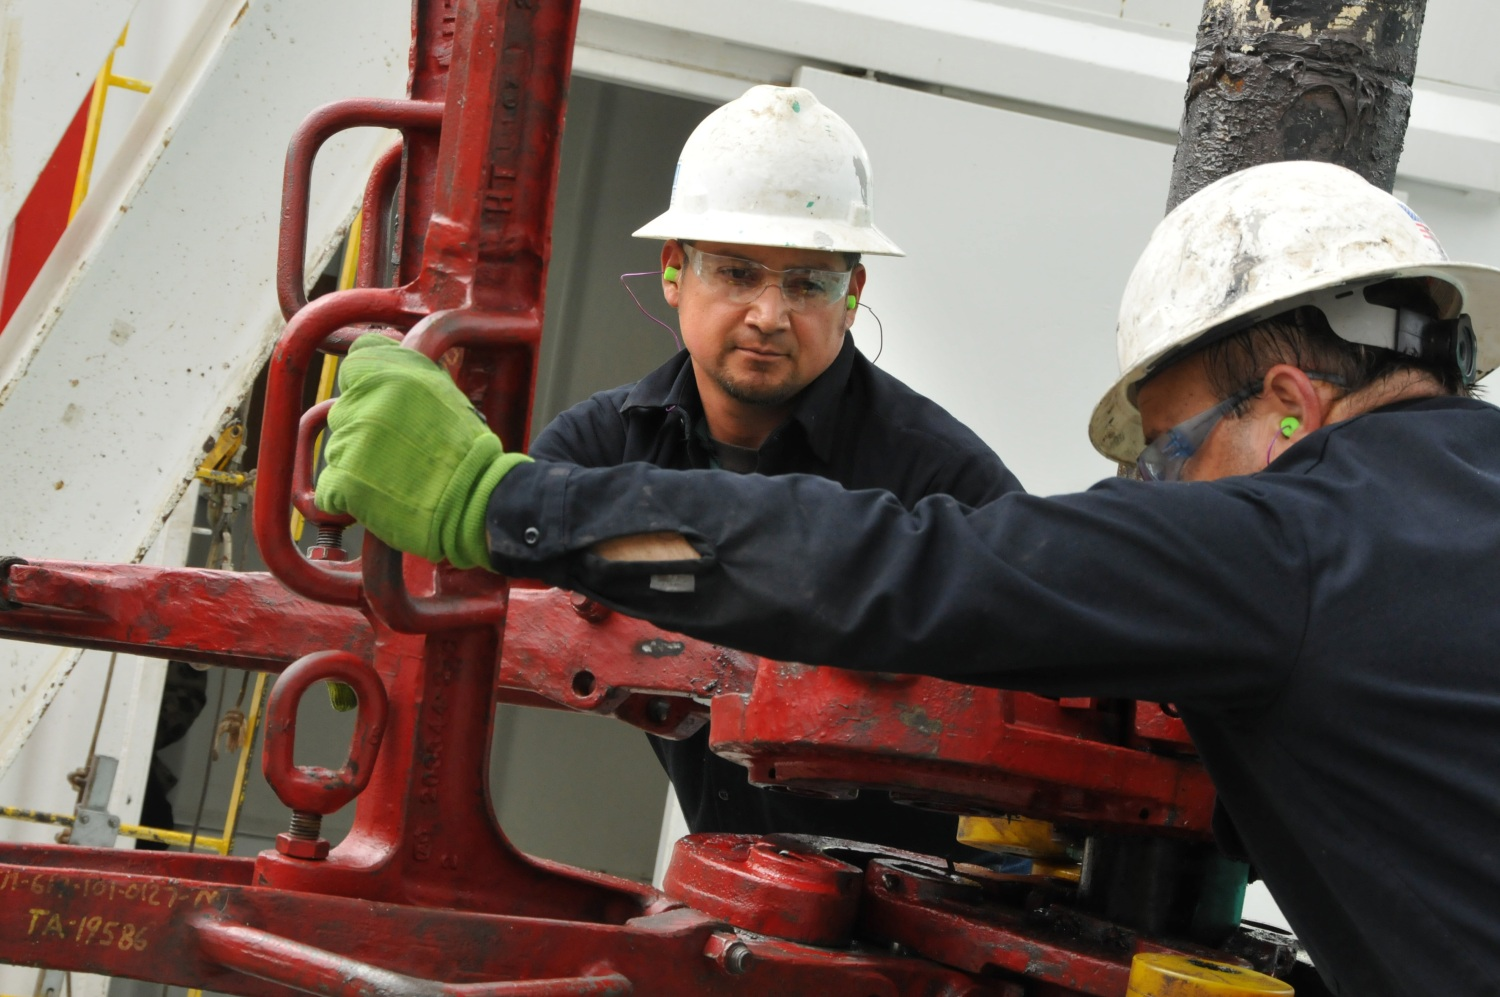epi: (1022, 157, 1500, 977), (541, 72, 1049, 569)
